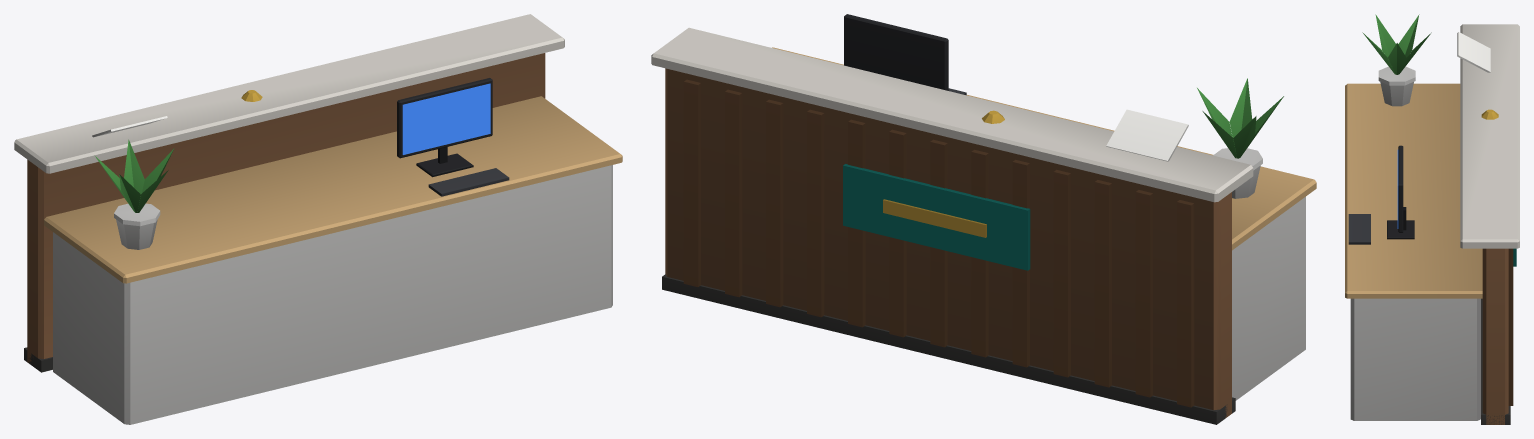
The model's file is counter_reception_01.glb.
3 views of the same model, side by side, from view 1: azimuth 30°, elevation 25°; view 2: azimuth 150°, elevation 25°; view 3: azimuth 270°, elevation 25° (orthographic). The views are drawn at different scales.
Visible parts, largest first — view 1: counter_reception_01_mesh, counter_reception_01_screen; view 2: counter_reception_01_mesh; view 3: counter_reception_01_mesh.
Part boxes in pixels (<box>): counter_reception_01_mesh: <box>14,14,622,424</box>; counter_reception_01_screen: <box>402,83,490,154</box>; counter_reception_01_mesh: <box>651,14,1316,424</box>; counter_reception_01_mesh: <box>1345,14,1519,424</box>.
Size of the model in its own units: 2.76 by 1.22 by 0.9401.
Materials: 2 (2 with a texture image).
